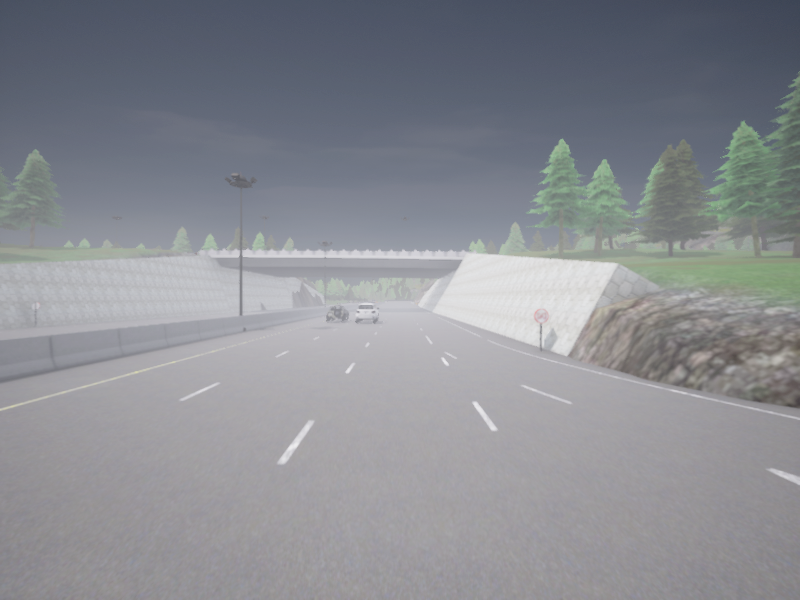vehicle: (356, 303, 378, 322), (326, 305, 348, 321)
